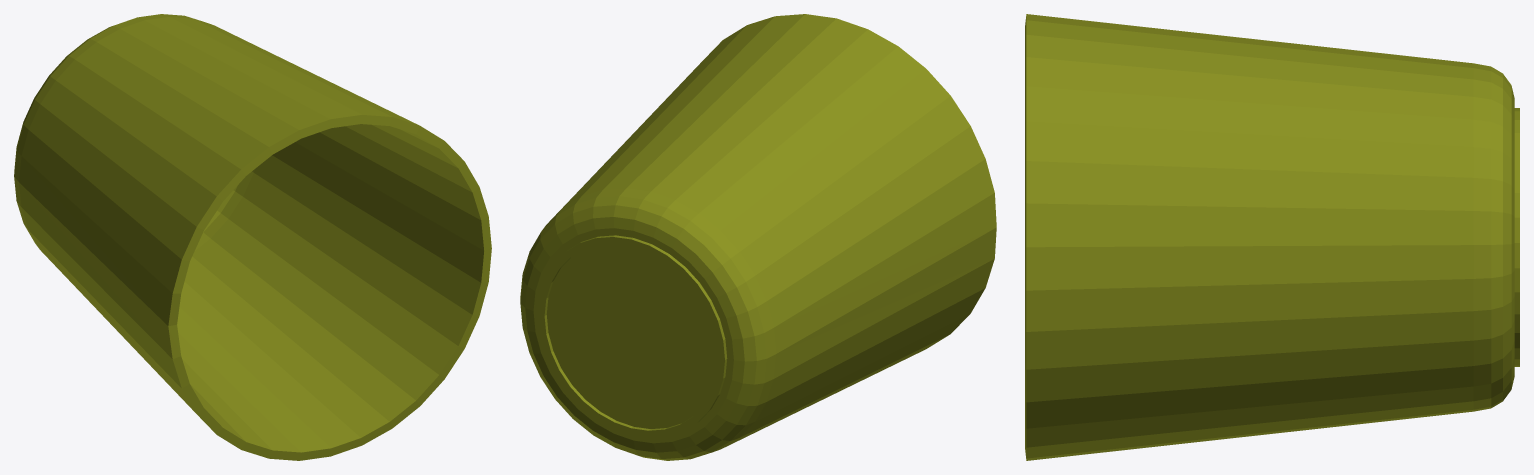
File: cup_visual.obj
The picture shows the model from 3 angles, left to right: view 1: azimuth 30°, elevation 25°; view 2: azimuth 150°, elevation 25°; view 3: azimuth 270°, elevation 25°; orthographic projection. The views are drawn at different scales.
Size of the model in its own units: 0.0779 by 0.0779 by 0.0862.
